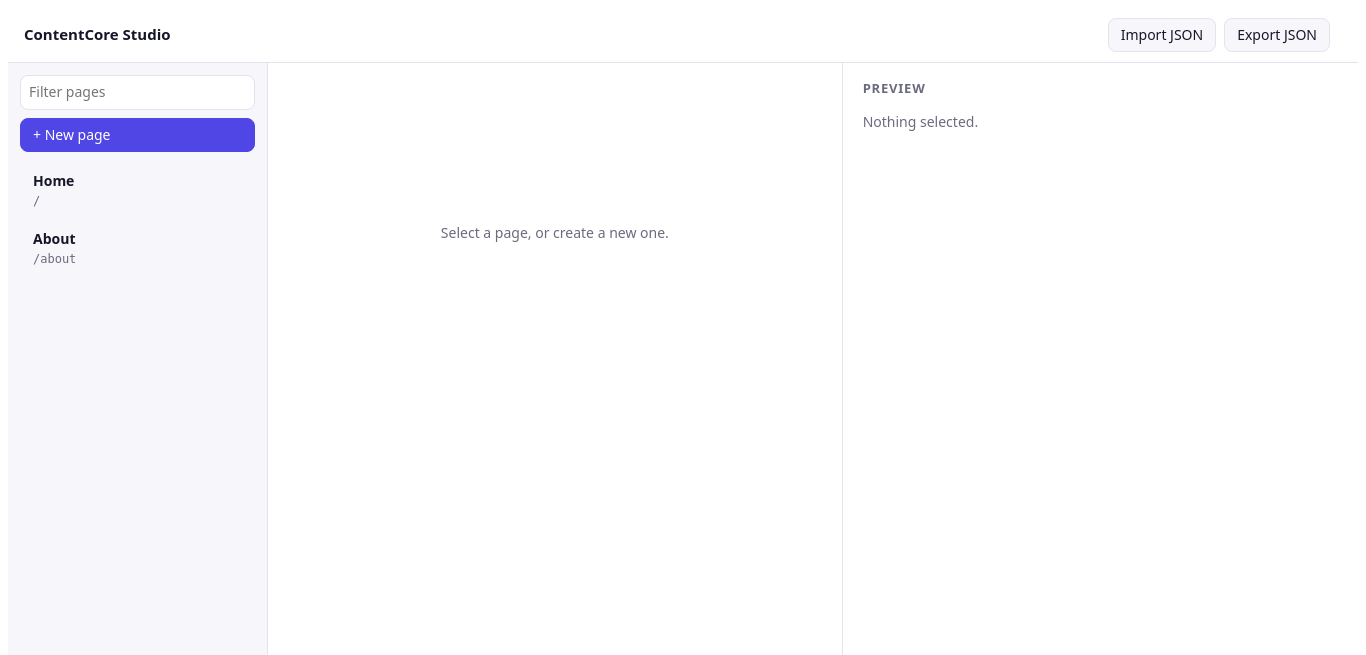
it: review fixes › Ctrl/Cmd+S does not save an invalid page
Click the button "Home /". click: (138, 191)
box: [20, 164, 255, 218]
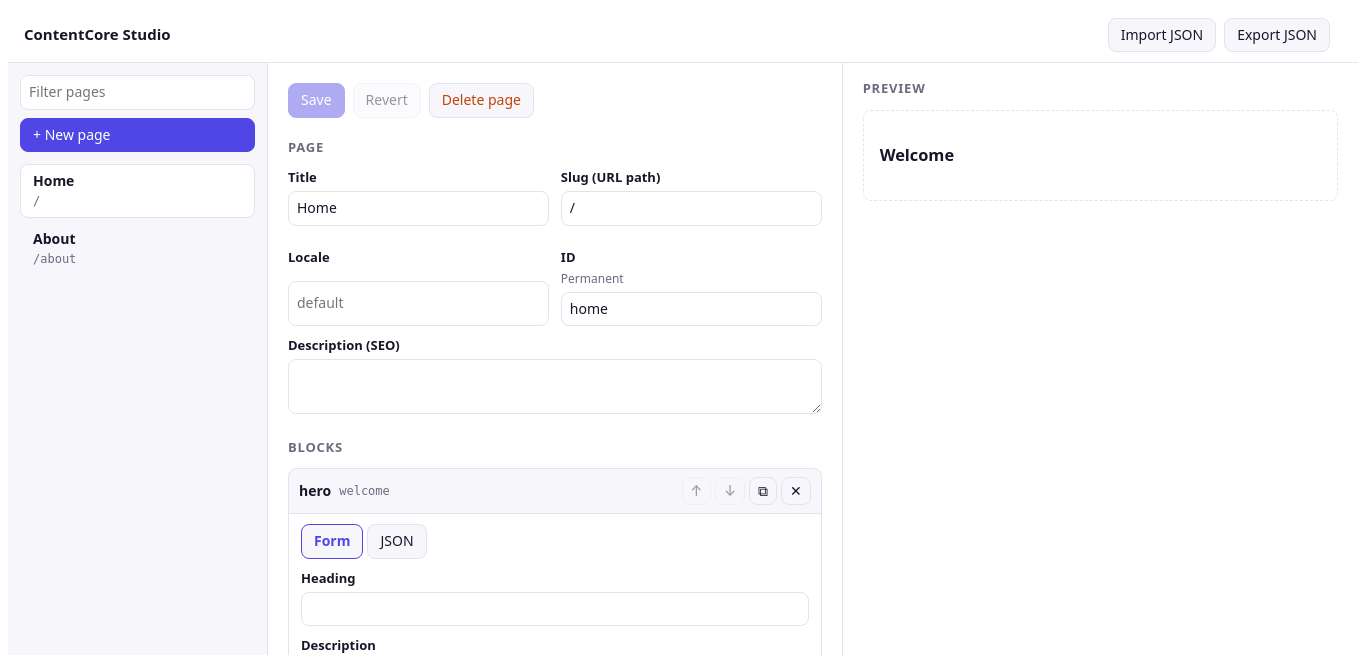
Clear the field labelled "Heading". click: (555, 609)
box: [301, 592, 809, 626]
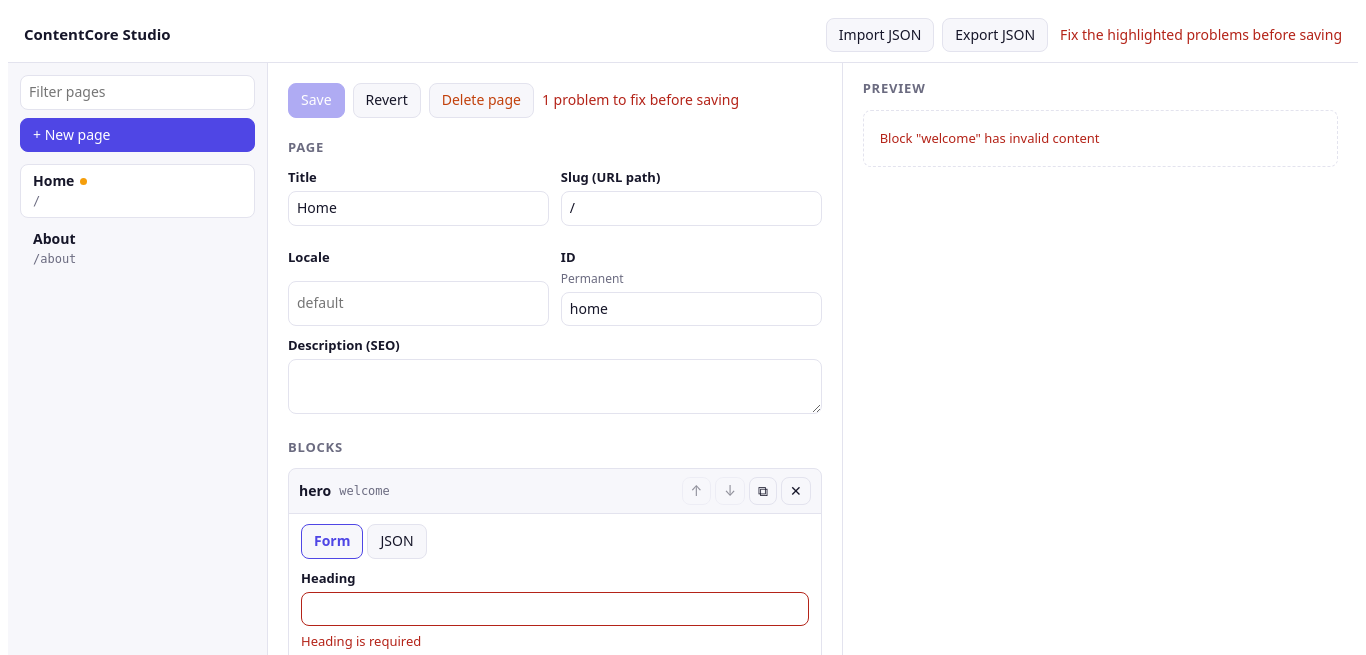
expect the text with class "cc-status" shows "Fix the highlighted problems": met, box [1060, 25, 1342, 44]
